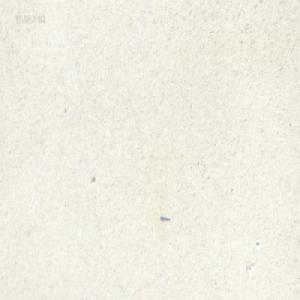Nail: (159, 214, 170, 222)
